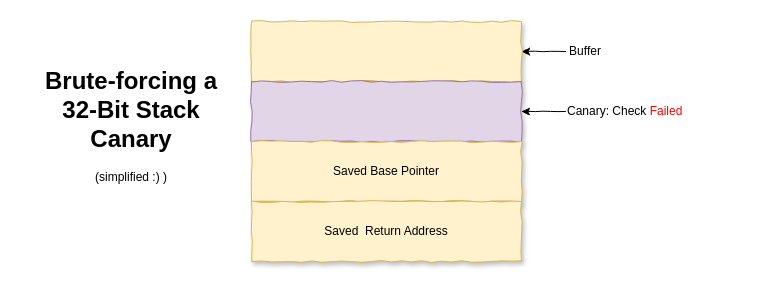
Image size: 774x286. Some labels were removed from this diagram. The shapes that lost their labels are listed below. From the top down, each one's centre as x and y in pixels, then its label:
At (x=387, y=52): "AAAAAAAAAAAAAAAAAA[...]A".
At (x=387, y=112): "XX 32 3700".
